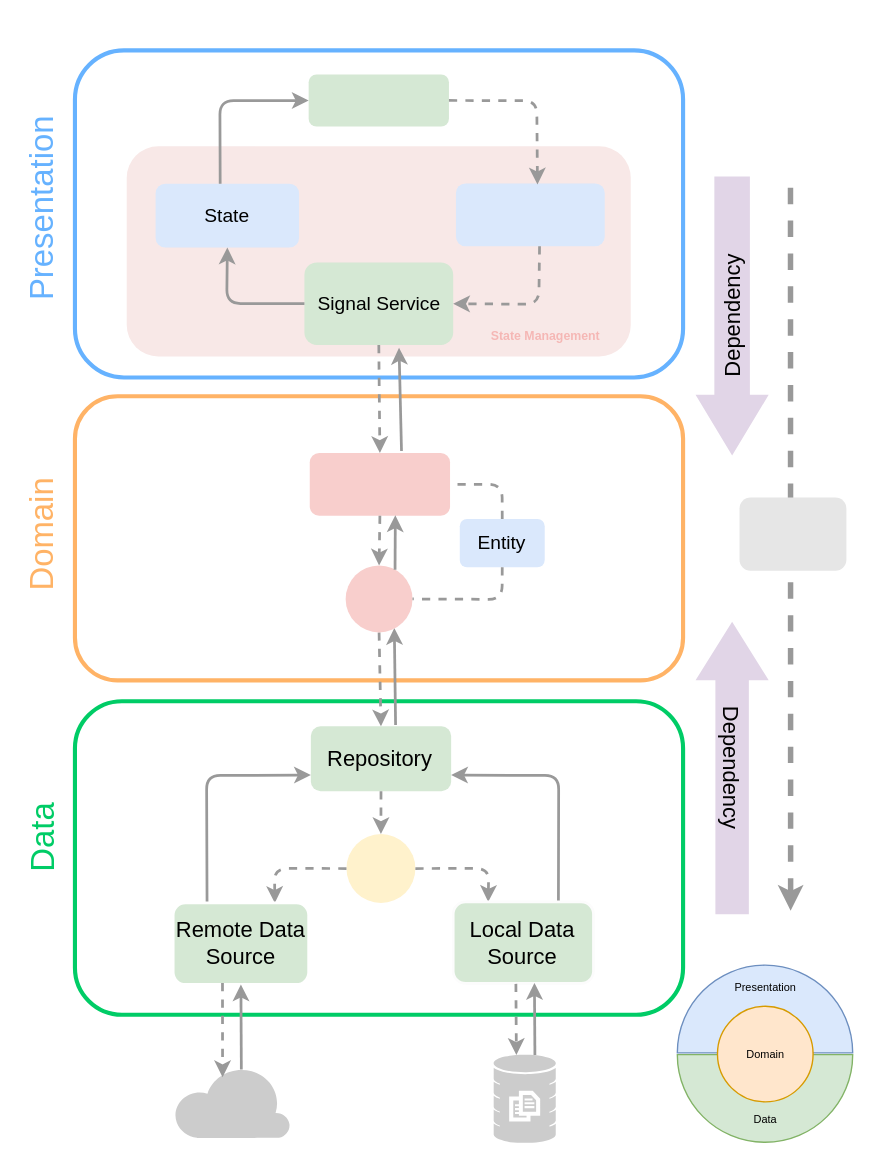
Image size: 878x1167. Some labels were removed from this diagram. The shapes that lost their labels are listed below. From the top down, each one's box as (x1, y1, x2, y2) in pixels, then its label:
(308, 74, 448, 126): View
(455, 183, 604, 246): Event
(309, 452, 449, 515): Usecase
(739, 497, 846, 570): Call flow
(345, 565, 412, 632): Repository Interfaces
(346, 833, 415, 902): Datasource Interfaces
